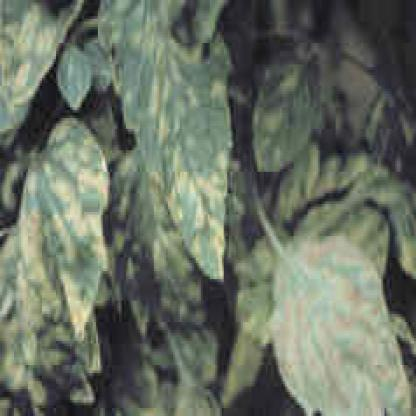Tomato mold leaf: (101, 3, 236, 290), (276, 231, 413, 413), (19, 123, 107, 322)
